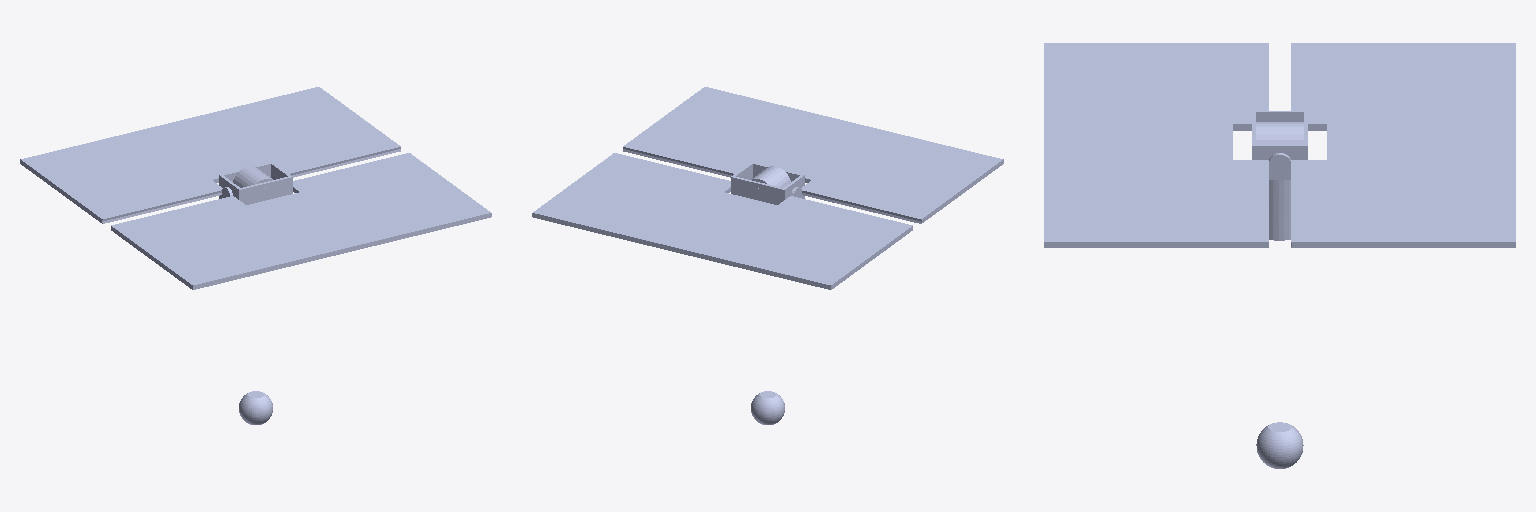
URDF robot description (slip_flat):
<?xml version="1.0" encoding="utf-8"?>
<!-- This URDF was automatically created by SolidWorks to URDF Exporter! Originally created by [author] ([email redacted]) 
     Commit Version: 1.6.0-4-g7f85cfe  Build Version: 1.6.7995.38578
     For more information, please see http://wiki.ros.org/sw_urdf_exporter -->
<robot
  name="slip_flat">
  <link
    name="base_link">
    <inertial>
      <origin
        xyz="-2.2133E-17 7.3403E-17 -3.1225E-17"
        rpy="0 0 0" />
      <mass
        value="13.854" />
      <inertia
        ixx="0.25188"
        ixy="-8.0055E-17"
        ixz="5.5135E-18"
        iyy="1.1876"
        iyz="2.3199E-18"
        izz="1.439" />
    </inertial>
    <visual>
      <origin
        xyz="0 0 0"
        rpy="0 0 0" />
      <geometry>
        <mesh
          filename="package://slip_flat/meshes/base_link.STL" />
      </geometry>
      <material
        name="">
        <color
          rgba="0.79216 0.81961 0.93333 1" />
      </material>
    </visual>
    <collision>
      <origin
        xyz="0 0 0"
        rpy="0 0 0" />
      <geometry>
        <mesh
          filename="package://slip_flat/meshes/base_link.STL" />
      </geometry>
    </collision>
  </link>
  <link
    name="link1">
    <inertial>
      <origin
        xyz="8.3694E-16 3.4216E-17 1.2143E-17"
        rpy="0 0 0" />
      <mass
        value="0.46057" />
      <inertia
        ixx="0.001133"
        ixy="9.5536E-19"
        ixz="1.8181E-19"
        iyy="0.0025494"
        iyz="1.5617E-19"
        izz="0.0032044" />
    </inertial>
    <visual>
      <origin
        xyz="0 0 0"
        rpy="0 0 0" />
      <geometry>
        <mesh
          filename="package://slip_flat/meshes/link1.STL" />
      </geometry>
      <material
        name="">
        <color
          rgba="0.79216 0.81961 0.93333 1" />
      </material>
    </visual>
    <collision>
      <origin
        xyz="0 0 0"
        rpy="0 0 0" />
      <geometry>
        <mesh
          filename="package://slip_flat/meshes/link1.STL" />
      </geometry>
    </collision>
  </link>
  <joint
    name="joint1"
    type="revolute">
    <origin
      xyz="0 0 0"
      rpy="0 0 0" />
    <parent
      link="base_link" />
    <child
      link="link1" />
    <axis
      xyz="-1 0 0" />
    <limit
      lower="-3.14"
      upper="3.14"
      effort="100"
      velocity="1" />
  </joint>
  <link
    name="link2">
    <inertial>
      <origin
        xyz="-1.3375E-08 -2.518E-08 -0.063872"
        rpy="0 0 0" />
      <mass
        value="1.7676" />
      <inertia
        ixx="0.01034"
        ixy="-2.2581E-09"
        ixz="-2.4133E-10"
        iyy="0.010119"
        iyz="3.1353E-09"
        izz="0.0027532" />
    </inertial>
    <visual>
      <origin
        xyz="0 0 0"
        rpy="0 0 0" />
      <geometry>
        <mesh
          filename="package://slip_flat/meshes/link2.STL" />
      </geometry>
      <material
        name="">
        <color
          rgba="0.79216 0.81961 0.93333 1" />
      </material>
    </visual>
    <collision>
      <origin
        xyz="0 0 0"
        rpy="0 0 0" />
      <geometry>
        <mesh
          filename="package://slip_flat/meshes/link2.STL" />
      </geometry>
    </collision>
  </link>
  <joint
    name="joint2"
    type="revolute">
    <origin
      xyz="0 0 0"
      rpy="0 0 0" />
    <parent
      link="link1" />
    <child
      link="link2" />
    <axis
      xyz="0 -1 0" />
    <limit
      lower="-3.14"
      upper="3.14"
      effort="100"
      velocity="1" />
  </joint>
  <link
    name="toe">
    <inertial>
      <origin
        xyz="7.8283E-16 -2.1161E-16 -0.0038948"
        rpy="0 0 0" />
      <mass
        value="0.51686" />
      <inertia
        ixx="0.00050871"
        ixy="-6.5858E-22"
        ixz="8.549E-21"
        iyy="0.00050871"
        iyz="3.4524E-20"
        izz="0.00052218" />
    </inertial>
    <visual>
      <origin
        xyz="0 0 0"
        rpy="0 0 0" />
      <geometry>
        <mesh
          filename="package://slip_flat/meshes/toe.STL" />
      </geometry>
      <material
        name="">
        <color
          rgba="0.79216 0.81961 0.93333 1" />
      </material>
    </visual>
    <collision>
      <origin
        xyz="0 0 0"
        rpy="0 0 0" />
      <geometry>
        <mesh
          filename="package://slip_flat/meshes/toe.STL" />
      </geometry>
    </collision>
  </link>
  <joint
    name="joint3"
    type="prismatic">
    <origin
      xyz="0 0 -0.7"
      rpy="0 0 0" />
    <parent
      link="link2" />
    <child
      link="toe" />
    <axis
      xyz="0 0 1" />
    <limit
      lower="-0.5"
      upper="0.5"
      effort="3000"
      velocity="10" />
    <dynamics
      damping="10" />
  </joint>
</robot>

--- Facts derived from the render (not from the file) ---
The picture shows the robot from 3 angles, left to right: view 1: azimuth 30°, elevation 25°; view 2: azimuth 150°, elevation 25°; view 3: azimuth 270°, elevation 25°; orthographic projection.
Model slip_flat with 4 links and 3 joints (2 revolute, 1 prismatic), rooted at base_link, posed all joints at 0.
Visible links, largest first — view 1: base_link, link1, toe, link2; view 2: base_link, link1, toe, link2; view 3: base_link, link2, link1, toe.
Link boxes in pixels (x1,y1,x2,y2): base_link: [20, 87, 491, 289]; link1: [219, 162, 292, 204]; toe: [239, 391, 272, 424]; link2: [233, 166, 273, 201]; base_link: [532, 87, 1003, 289]; link1: [731, 162, 804, 204]; toe: [751, 391, 784, 424]; link2: [750, 166, 790, 201]; base_link: [1044, 43, 1515, 247]; link2: [1256, 122, 1303, 240]; link1: [1252, 111, 1307, 179]; toe: [1256, 422, 1303, 468].
Size in the robot's own frame: 1 by 1 by 0.8033 metres.
Meshes: 4 distinct files referenced, 4 mesh visuals loaded (4 binary STL).